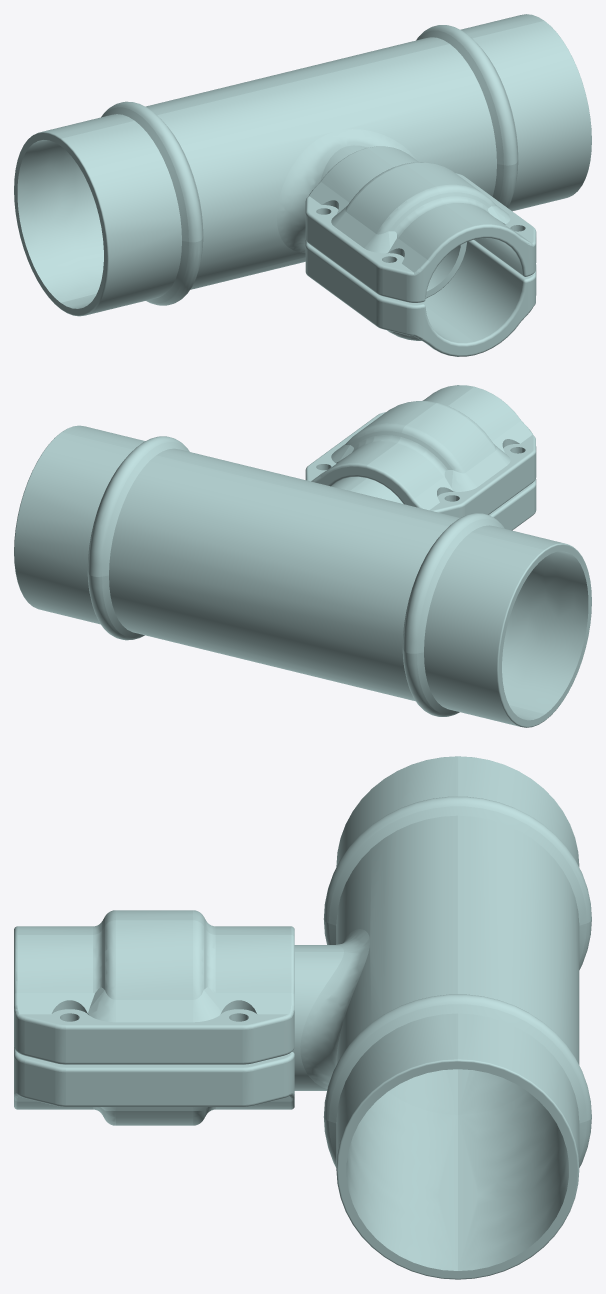
3 views of the same model, one above another, from view 1: azimuth 30°, elevation 25°; view 2: azimuth 150°, elevation 25°; view 3: azimuth 270°, elevation 25° (orthographic). The views are drawn at different scales.
Size of the model in its own units: 200 by 74.35 by 161.
